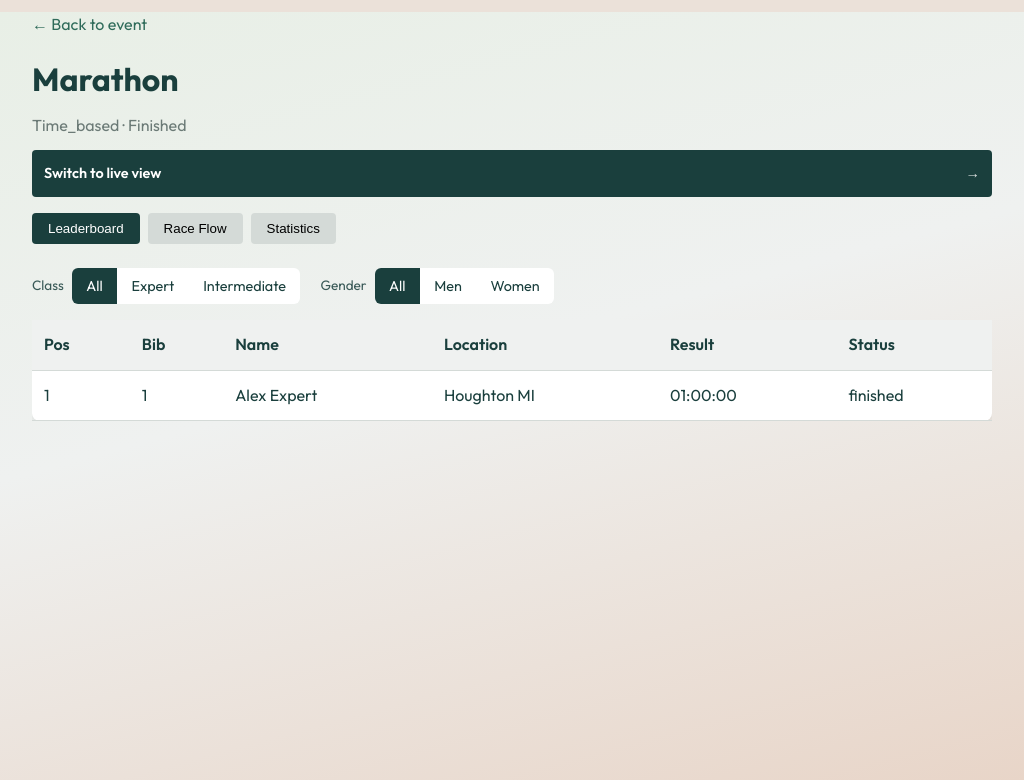
Scenario: RaceDetails.vue › leaderboard category filters › shows empty message when filter matches no racers
Click the button with test id "lb-filter-skill-expert". click: (153, 286)
box: [117,268,189,304]
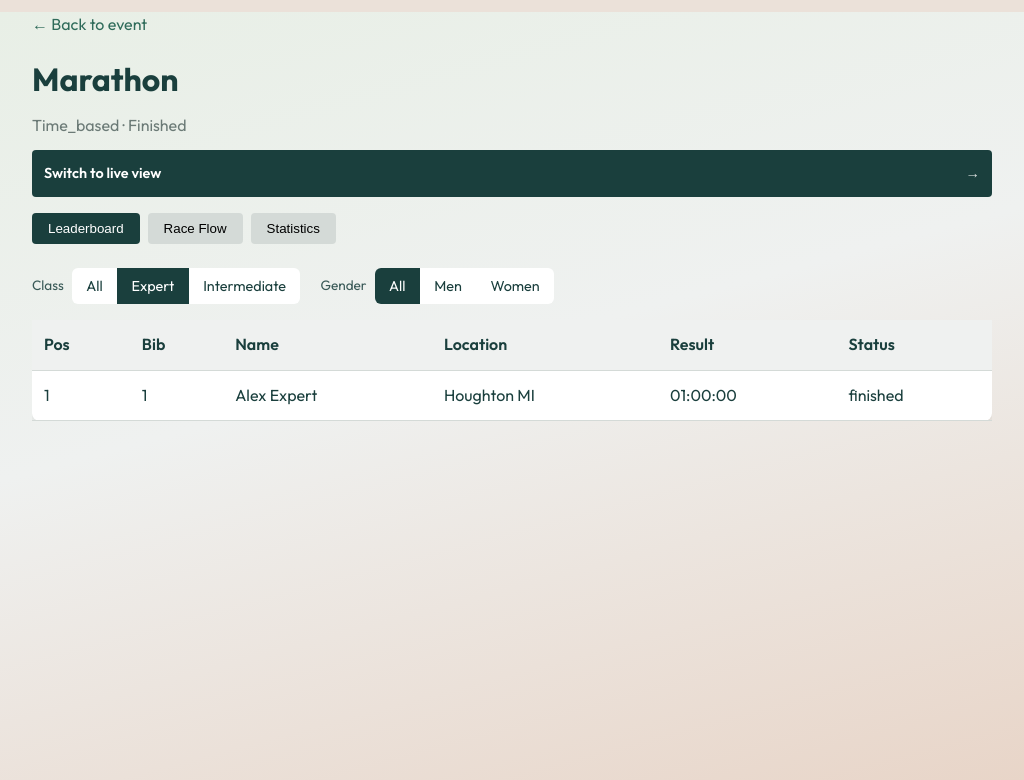
Click the button with test id "lb-filter-gender-women". click: (515, 286)
box: [476,268,554,304]
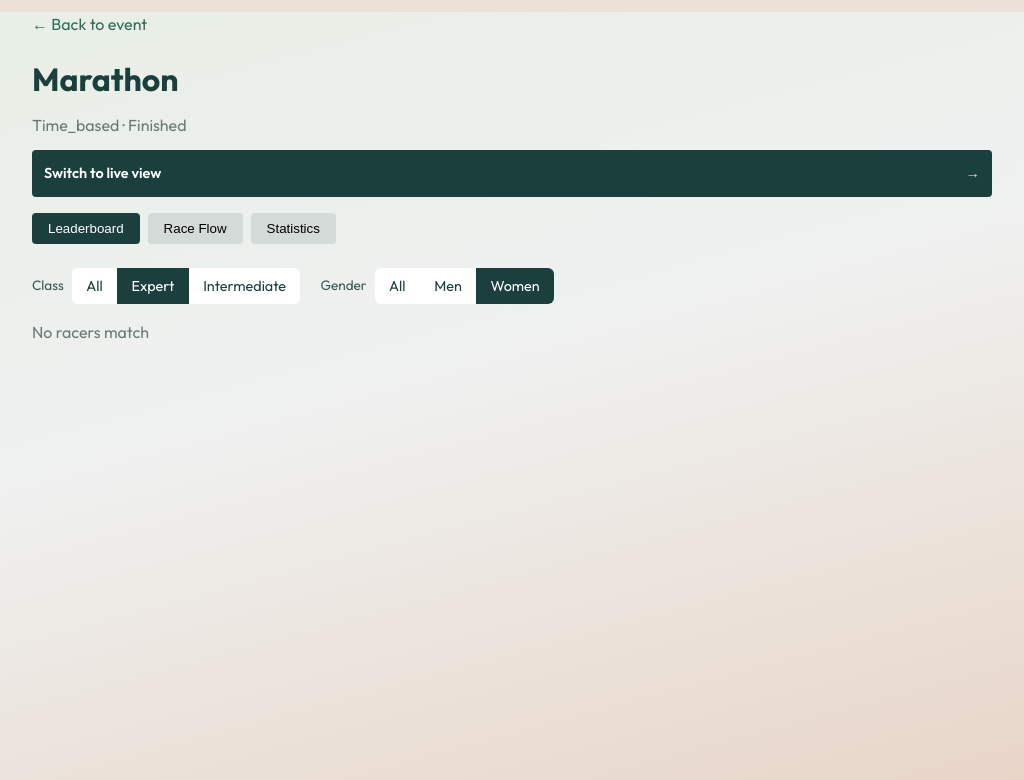
expect the text "No racers match" is shown: met, box [32,322,149,342]
